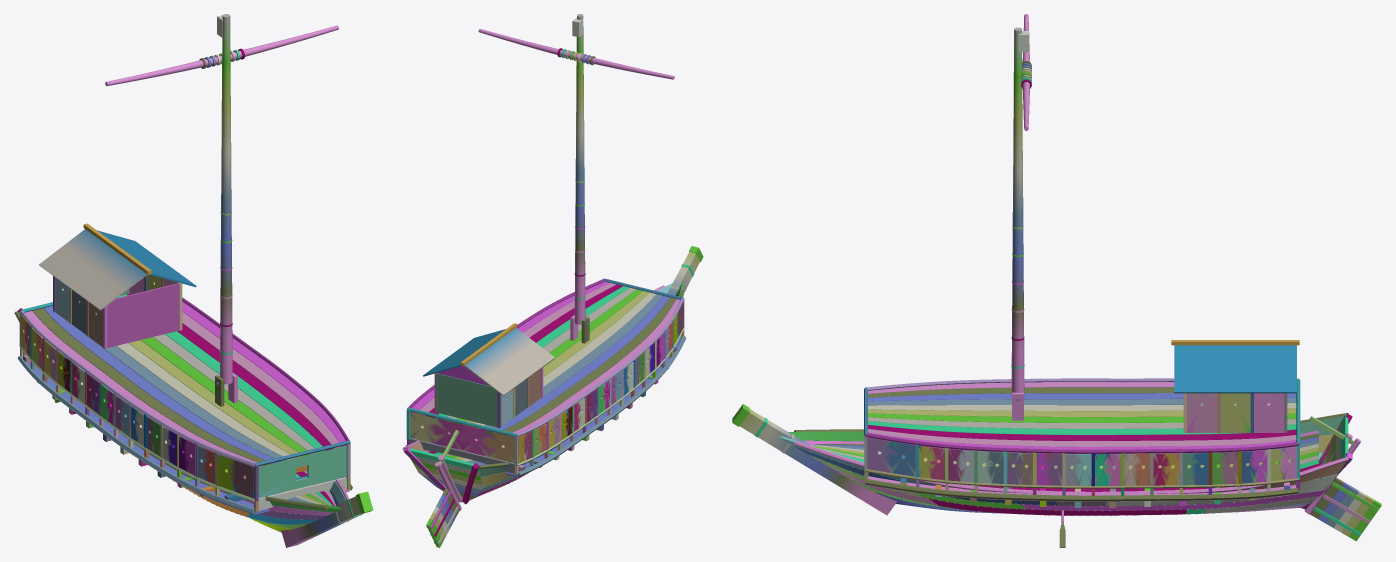
Rendered from seki.glb.
The picture shows the model from 3 angles, left to right: view 1: azimuth 30°, elevation 25°; view 2: azimuth 150°, elevation 25°; view 3: azimuth 270°, elevation 25°; orthographic projection. The views are drawn at different scales.
Parts seen in each view (by area): view 1: hull, mast, yard; view 2: hull, mast, rudder, yard; view 3: hull, mast, rudder.
Boxes of the visible parts, bbox=[...] form: hull: bbox=[14, 223, 373, 547]; mast: bbox=[217, 14, 232, 384]; yard: bbox=[105, 25, 338, 85]; hull: bbox=[402, 246, 703, 504]; mast: bbox=[572, 14, 585, 324]; rudder: bbox=[426, 430, 461, 547]; yard: bbox=[478, 29, 674, 79]; hull: bbox=[732, 340, 1352, 515]; mast: bbox=[1011, 27, 1028, 395]; rudder: bbox=[1304, 416, 1381, 541].
Size of what is drawn, in the model's own units: 9.61 by 20.23 by 23.29.
